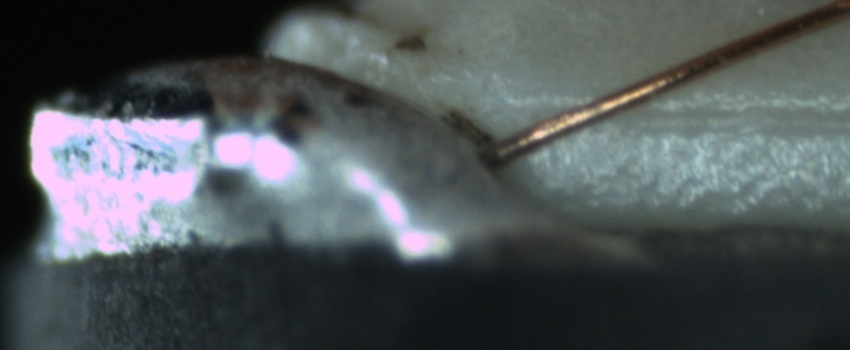DL: (547, 77, 848, 147)
